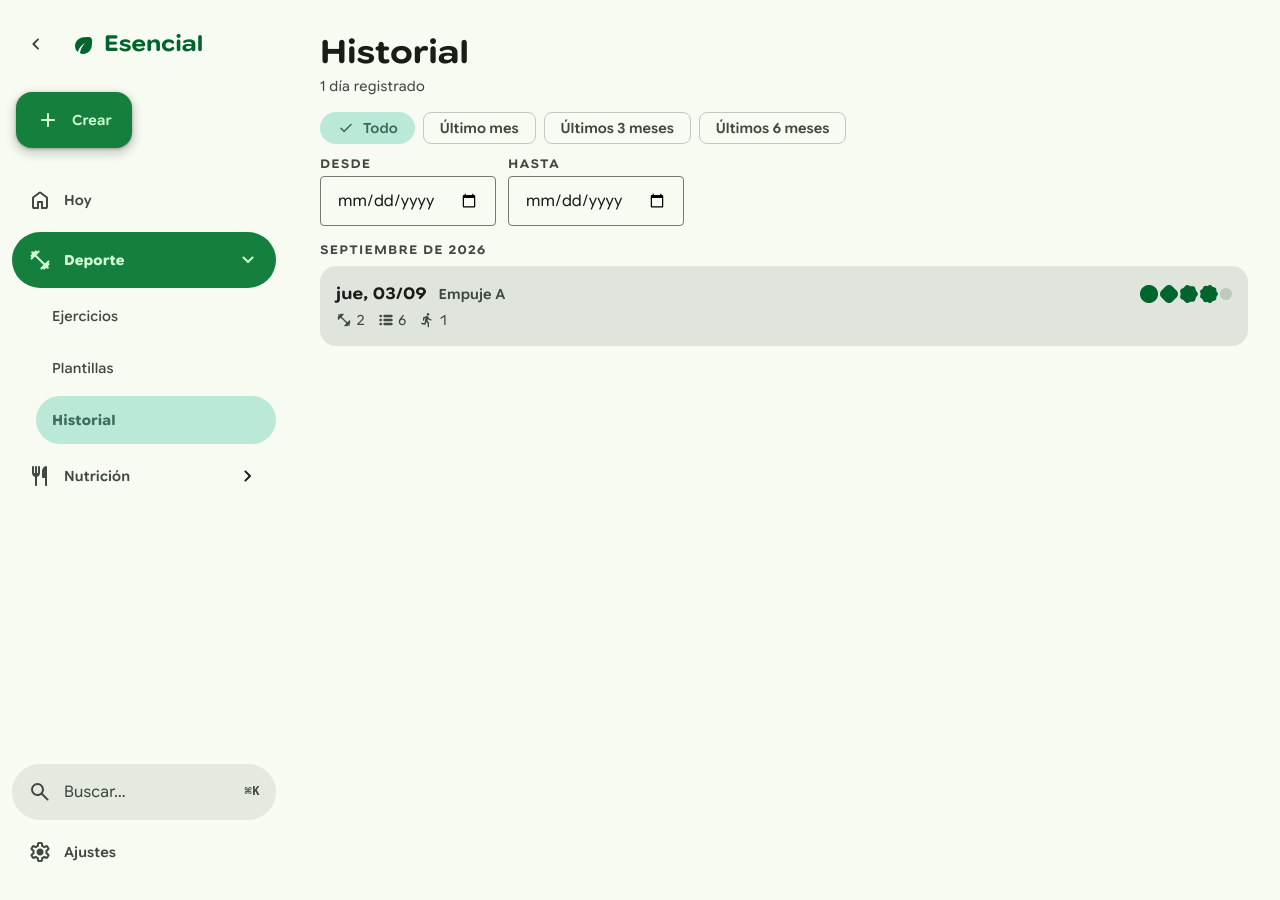
Scenario: /historial › un rango al revés se avisa y no se pide nada
Expected: the link "jue, 03/09 Empuje A 2 6 1" is shown, [320, 266, 1248, 346]
Un «desde» solo sí se pide (es un rango abierto por delante).
Step 1. Type "2026-09-30" into the date field named "Desde" → coordinates (408, 201), box [320, 176, 496, 226]
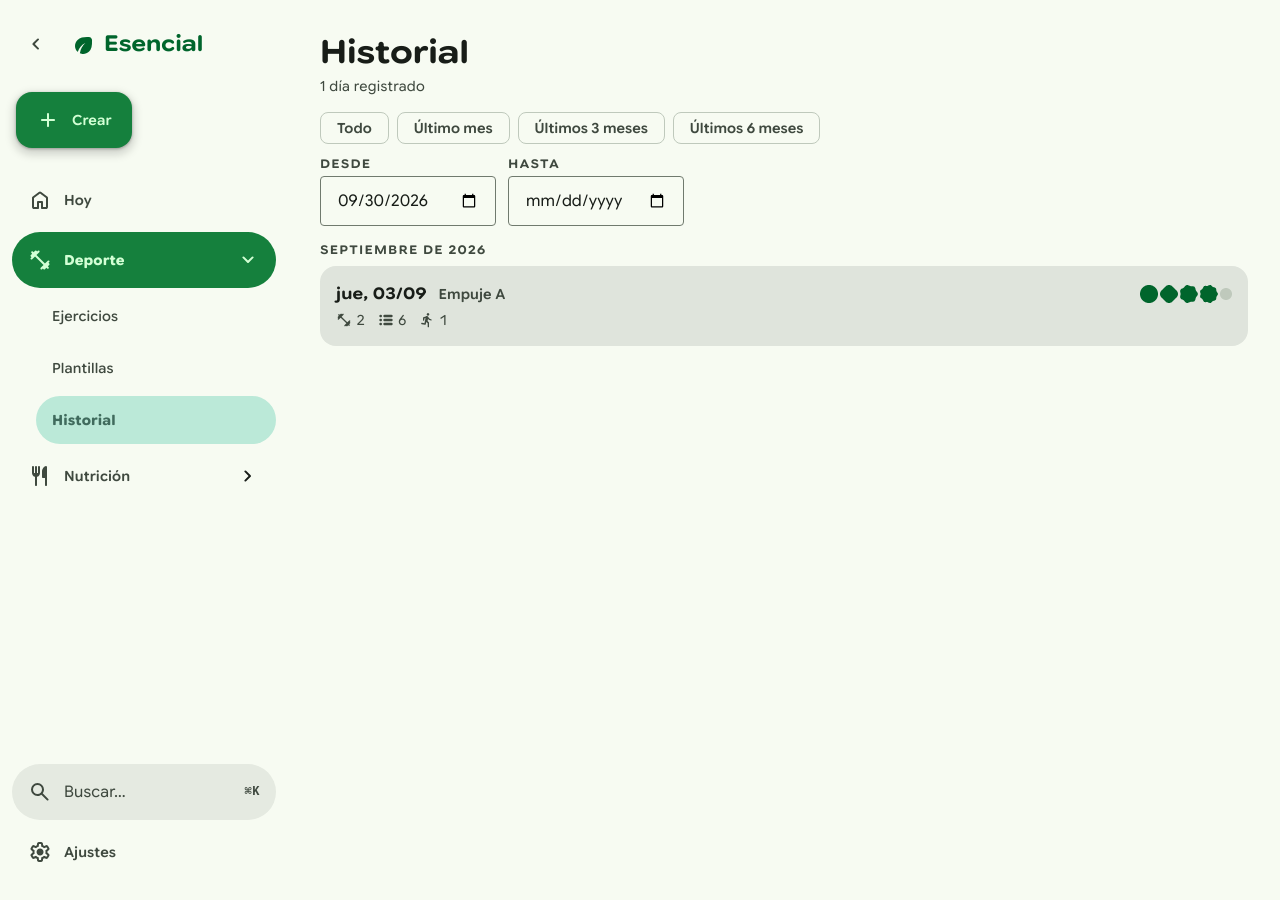
El «hasta» por detrás del «desde» ya no pide: avisa y deja la lista.
Step 2. Type "2026-08-01" into the date field named "Hasta" → coordinates (596, 201), box [508, 176, 684, 226]
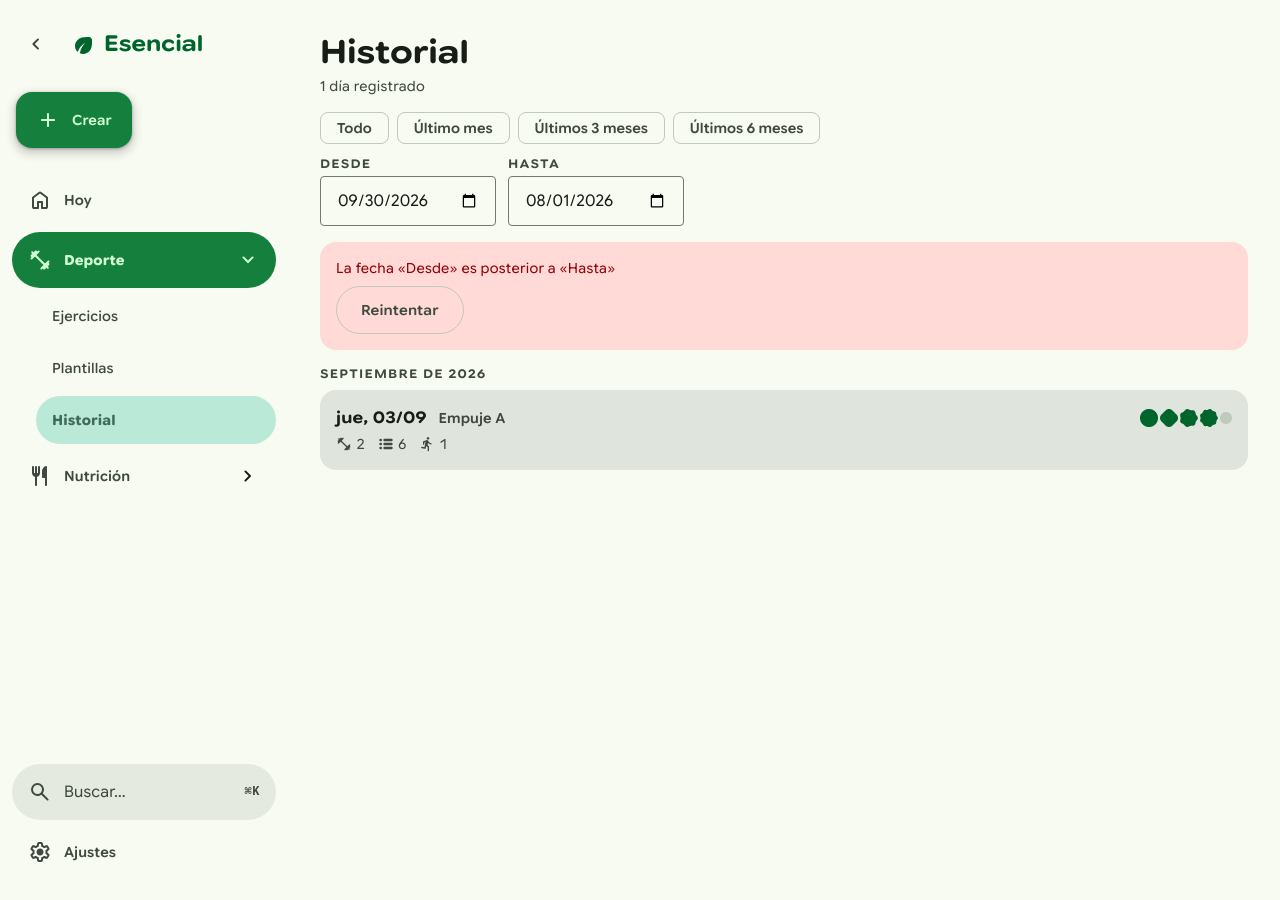
Expected: the link "jue, 03/09 Empuje A 2 6 1" is shown, [320, 390, 1248, 470]
Result: the text "La fecha «Desde» es posterior a «Hasta»" is shown at [336, 258, 615, 278]
